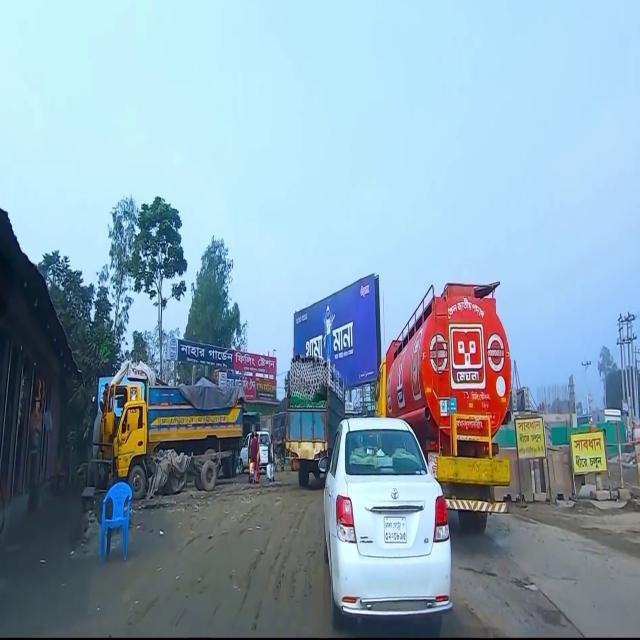white: (321, 414, 453, 623)
